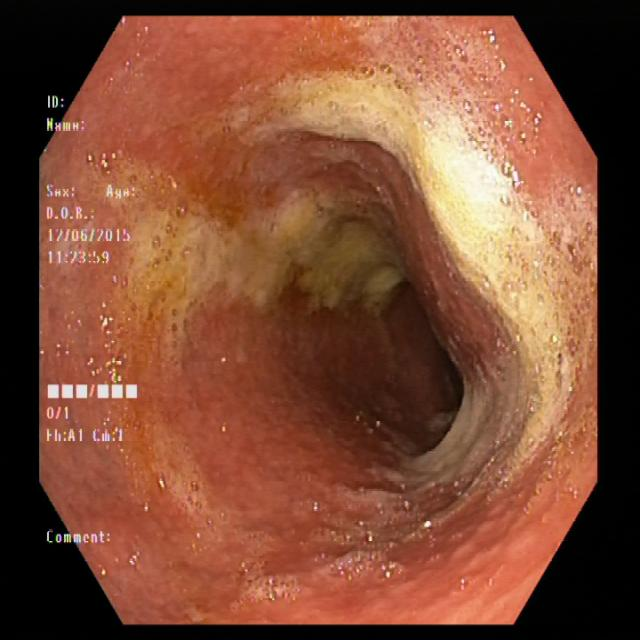ulcerative-colities: (209, 54, 587, 562), (65, 120, 418, 529)
